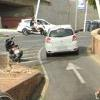cars: (44, 24, 80, 57)
